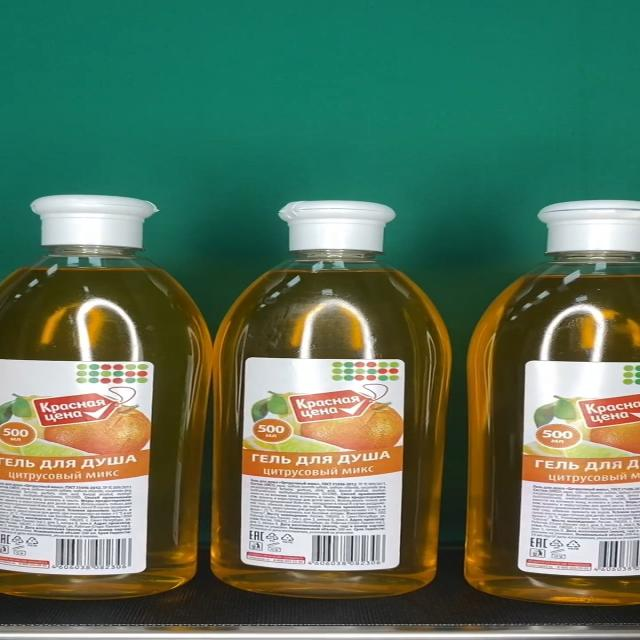Bottle: (213, 200, 452, 600), (0, 196, 212, 601)
Cap: (30, 195, 158, 248), (278, 200, 397, 250)
